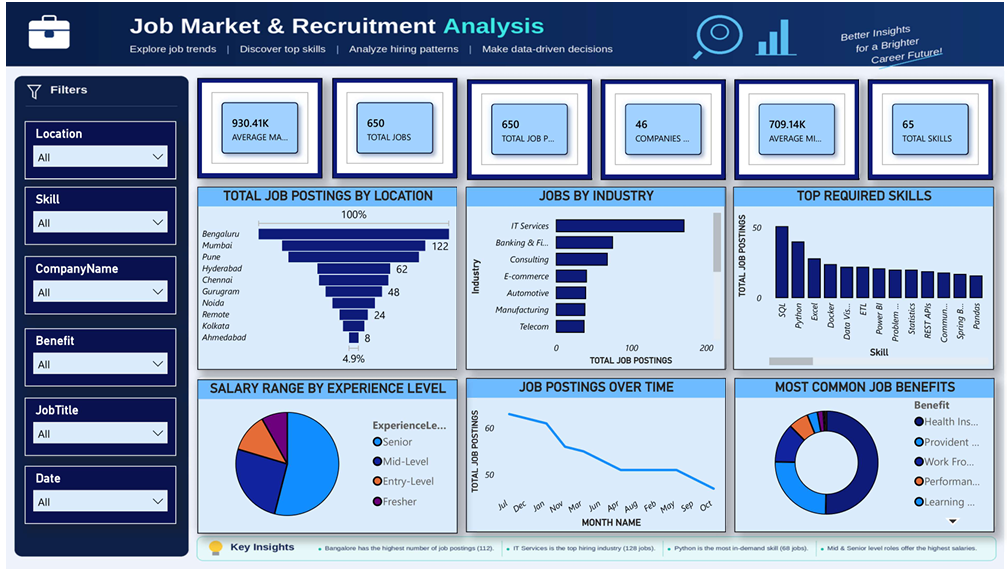

The page's visual inventory and layout, read from the dashboard file:
{"tool":"powerbi","page":{"name":"DASHBOARD","canvas":[1280,720],"ordinal":0},"visuals":[{"type":"image","box":[9.6,0,1270.7,720.4],"z":0},{"type":"cardVisual","fields":{"Data":["Companies.AVERAGE MAX SALARY"]},"box":[253.9,94.7,159.2,127.6],"z":1},{"type":"cardVisual","fields":{"Data":["Companies.TOTAL JOBS"]},"box":[425.4,94.7,159.2,127.6],"z":2},{"type":"cardVisual","fields":{"Data":["Companies.TOTAL JOB POSTINGS"]},"box":[596.9,96.1,159.2,127.6],"z":3},{"type":"cardVisual","fields":{"Data":["Companies.COMPANIES HIRING"]},"box":[767.1,96.1,159.2,127.6],"z":4},{"type":"cardVisual","fields":{"Data":["Companies.AVERAGE MIN SALARY"]},"box":[935.9,96.1,159.2,127.6],"z":5},{"type":"cardVisual","fields":{"Data":["Companies.TOTAL SKILLS"]},"box":[1106,96.1,159.2,127.6],"z":6},{"type":"funnel","title":"TOTAL JOB POSTINGS BY LOCATION","fields":{"Category":["JobPostings.Location"],"Y":["Companies.TOTAL JOB POSTINGS"]},"box":[253.9,233.3,330.7,233.3],"z":7},{"type":"clusteredBarChart","title":"JOBS BY INDUSTRY","fields":{"Category":["Companies.Industry"],"Y":["Companies.TOTAL JOB POSTINGS"]},"box":[595.5,233.3,330.7,233.3],"z":8},{"type":"columnChart","title":"TOP REQUIRED SKILLS","fields":{"Category":["JobSkills.Skill"],"Y":["Companies.TOTAL JOB POSTINGS"]},"box":[934.5,233.3,332.1,233.3],"z":9},{"type":"lineChart","title":" JOB POSTINGS OVER TIME","fields":{"Category":["DATE TABLE.MONTH NAME"],"Y":["Companies.TOTAL JOB POSTINGS"]},"box":[595.5,476.2,330.7,196.2],"z":10},{"type":"pieChart","title":"SALARY RANGE BY EXPERIENCE LEVEL","fields":{"Category":["JobPostings.ExperienceLevel"],"Y":["Companies.AVERAGE MAX SALARY"]},"box":[253.9,477.5,330.7,196.2],"z":11},{"type":"donutChart","title":"MOST COMMON JOB BENEFITS","fields":{"Category":["JobBenefits.Benefit"],"Y":["Companies.TOTAL BENEFITS"]},"box":[935.9,476.2,330.7,196.2],"z":12},{"type":"slicer","fields":{"Values":["JobPostings.Location"]},"box":[32.9,149.6,193.5,74.1],"z":13},{"type":"slicer","fields":{"Values":["JobSkills.Skill"]},"box":[32.9,233.3,193.5,74.1],"z":14},{"type":"slicer","fields":{"Values":["Companies.CompanyName"]},"box":[32.9,322.5,193.5,74.1],"z":15},{"type":"slicer","fields":{"Values":["JobBenefits.Benefit"]},"box":[32.9,413,193.5,74.1],"z":16},{"type":"slicer","fields":{"Values":["JobPostings.JobTitle"]},"box":[32.9,500.9,193.5,74.1],"z":17},{"type":"slicer","fields":{"Values":["DATE TABLE.Date"]},"box":[32.9,588.7,193.5,74.1],"z":18}]}

Visuals, with their boxes in screenshot pixels (x1, y1, x2, y2), scaled from the page's 1280x720 canvas onto the 1007x572 screenshot:
image: 8/0/1006/571
cardVisual - Companies.AVERAGE MAX SALARY: 200/75/325/177
cardVisual - Companies.TOTAL JOBS: 335/75/460/177
cardVisual - Companies.TOTAL JOB POSTINGS: 470/76/595/178
cardVisual - Companies.COMPANIES HIRING: 603/76/729/178
cardVisual - Companies.AVERAGE MIN SALARY: 736/76/862/178
cardVisual - Companies.TOTAL SKILLS: 870/76/995/178
"TOTAL JOB POSTINGS BY LOCATION" funnel: 200/185/460/371
"JOBS BY INDUSTRY" clusteredBarChart: 468/185/729/371
"TOP REQUIRED SKILLS" columnChart: 735/185/996/371
" JOB POSTINGS OVER TIME" lineChart: 468/378/729/534
"SALARY RANGE BY EXPERIENCE LEVEL" pieChart: 200/379/460/535
"MOST COMMON JOB BENEFITS" donutChart: 736/378/996/534
slicer - JobPostings.Location: 26/119/178/178
slicer - JobSkills.Skill: 26/185/178/244
slicer - Companies.CompanyName: 26/256/178/315
slicer - JobBenefits.Benefit: 26/328/178/387
slicer - JobPostings.JobTitle: 26/398/178/457
slicer - DATE TABLE.Date: 26/468/178/527
